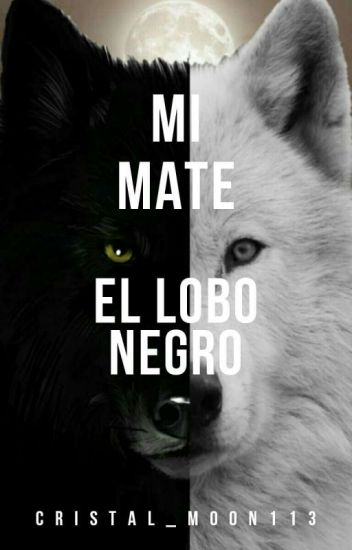Lobo: (4, 6, 352, 524)
